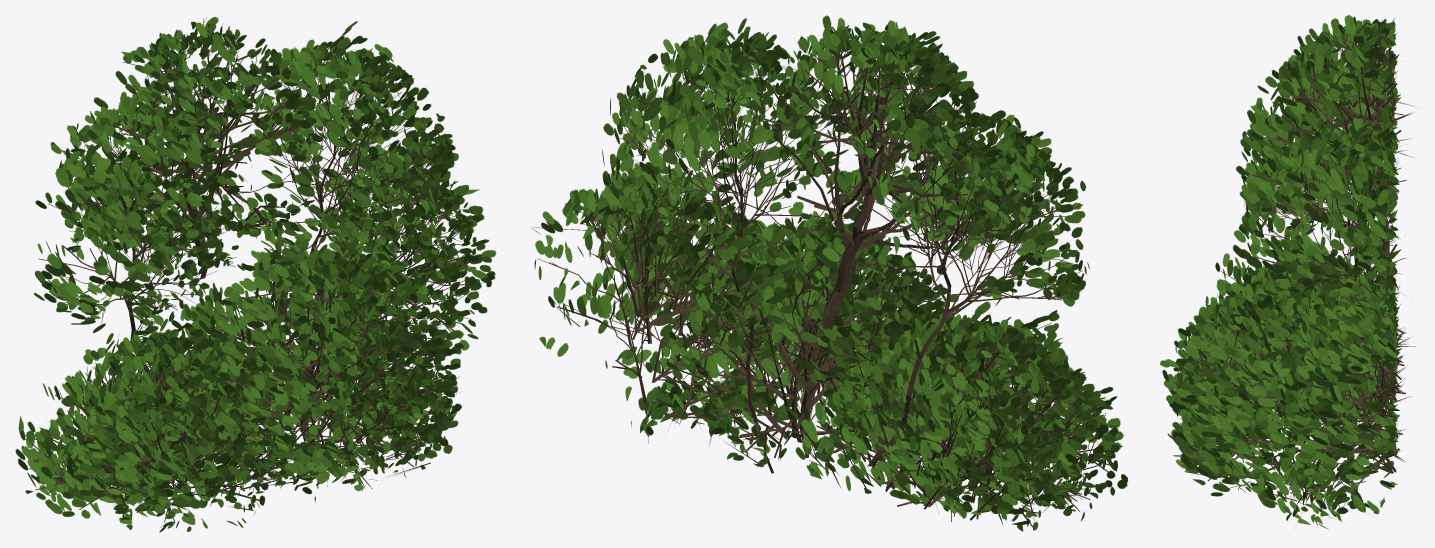
3 views of the same model, side by side, from view 1: azimuth 30°, elevation 25°; view 2: azimuth 150°, elevation 25°; view 3: azimuth 270°, elevation 25° (orthographic). The views are drawn at different scales.
Visible parts, largest first — view 1: oak 01.001_trunk_Mat.001_0.408; view 2: oak 01.001_trunk_Mat.001_0.408; view 3: oak 01.001_trunk_Mat.001_0.408.
Part boxes in pixels (bbox=[...]): oak 01.001_trunk_Mat.001_0.408: bbox=[15, 17, 496, 532]; oak 01.001_trunk_Mat.001_0.408: bbox=[531, 15, 1127, 531]; oak 01.001_trunk_Mat.001_0.408: bbox=[1160, 14, 1415, 529].
Bounding box in the file's own units: 3.74 × 3.18 × 1.81.
2 materials, 1 textured.
